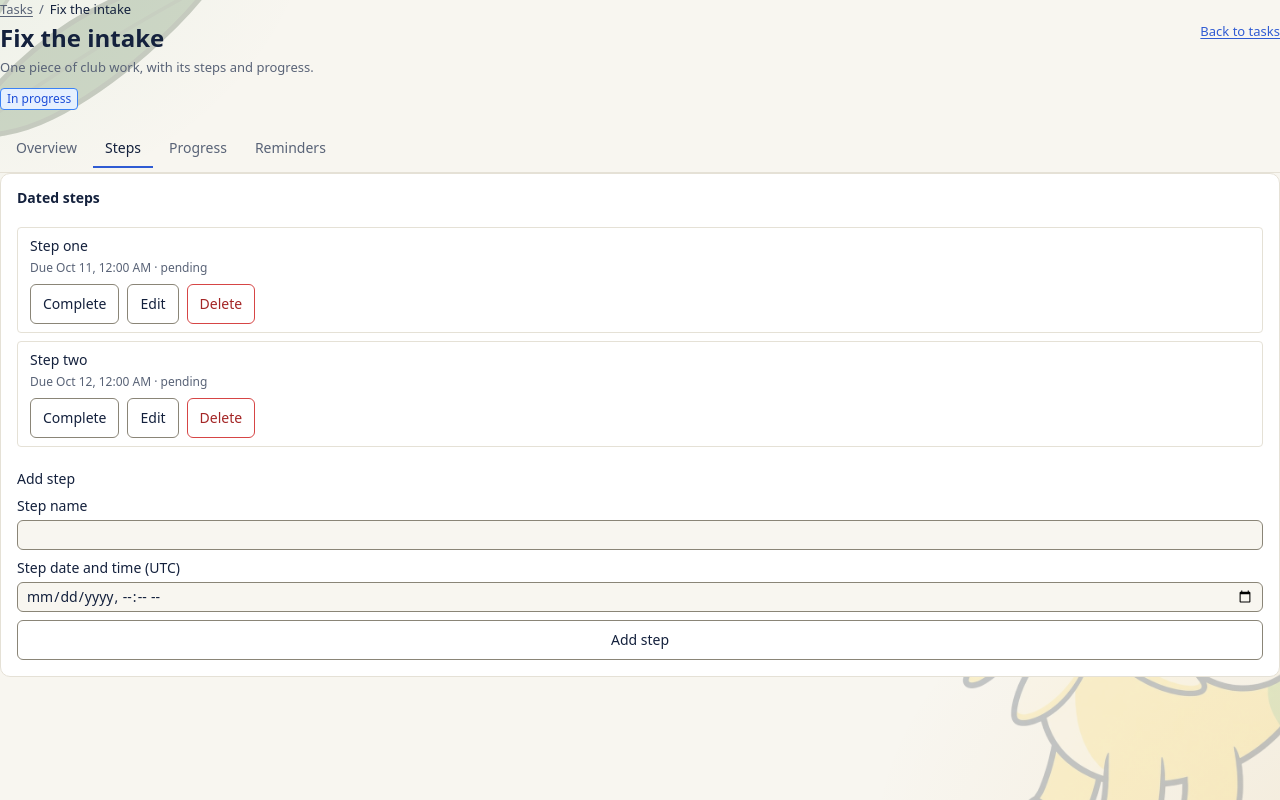
Test: R1 destructive confirmations (detail) › step Delete refusal keeps the honest message and closes the dialog
The image size is (1280, 800).
Step 1. Click the button "Delete" below "Step one" → (221, 304), box [186,284,255,324]
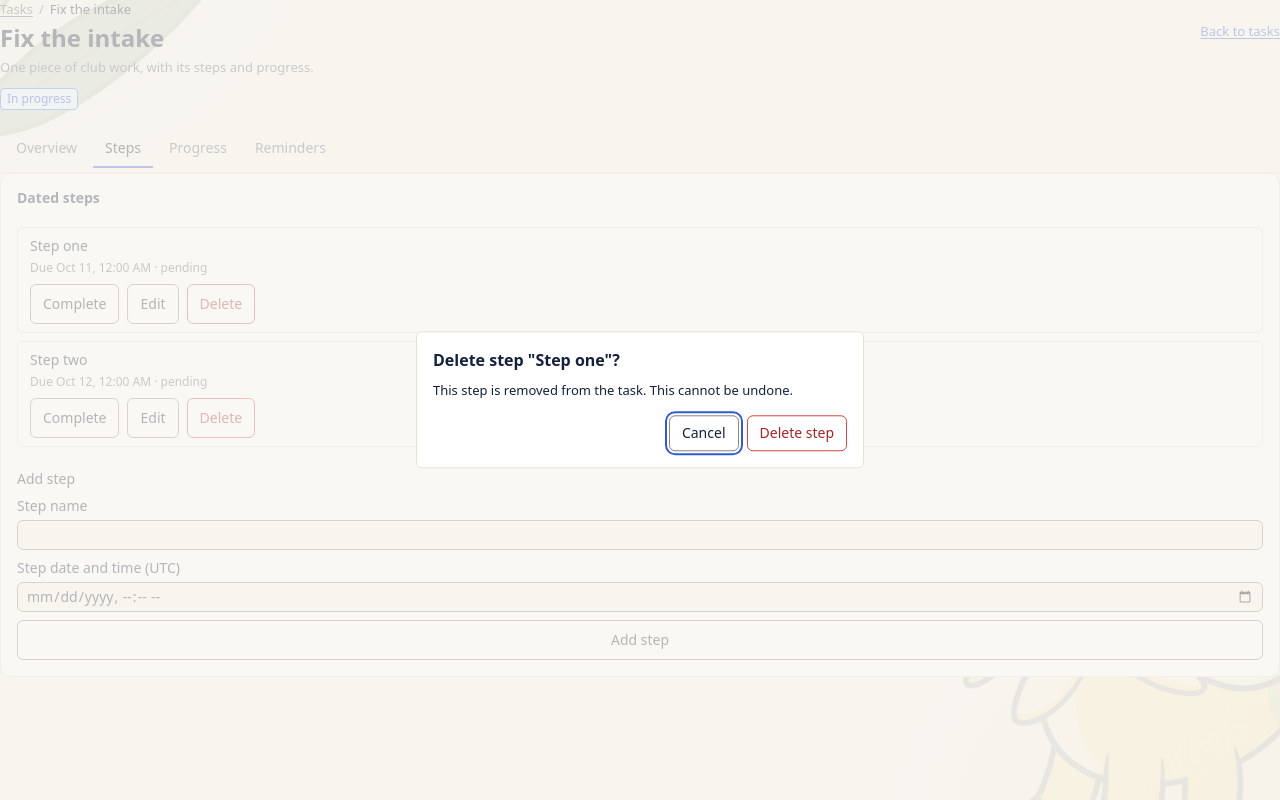
Step 2. Click the button "Delete step" → (797, 434), box [746,416,847,452]
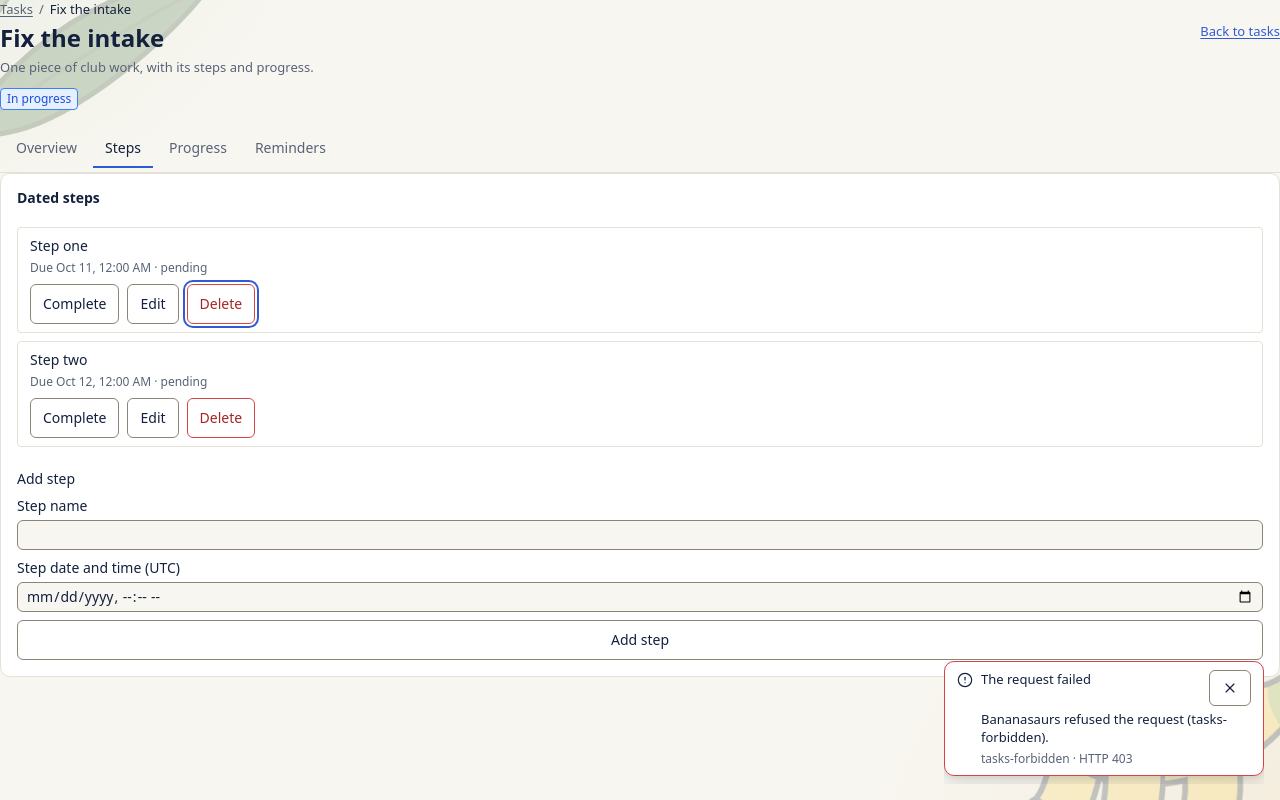
Check: the message shows "tasks-forbidden", box [981,710,1227,746]
Check: the dialog is gone
